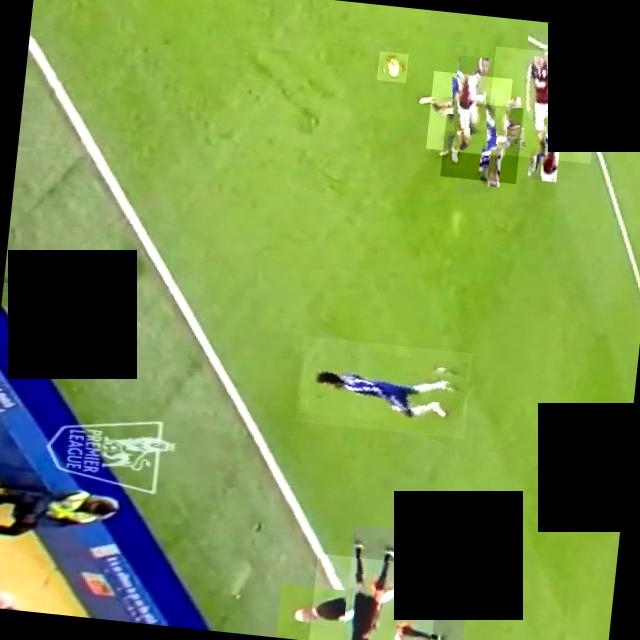ball: (376, 51, 408, 82)
soccer-player: (294, 336, 472, 438), (483, 46, 600, 163), (307, 553, 438, 640), (424, 70, 512, 156), (438, 100, 522, 184)
